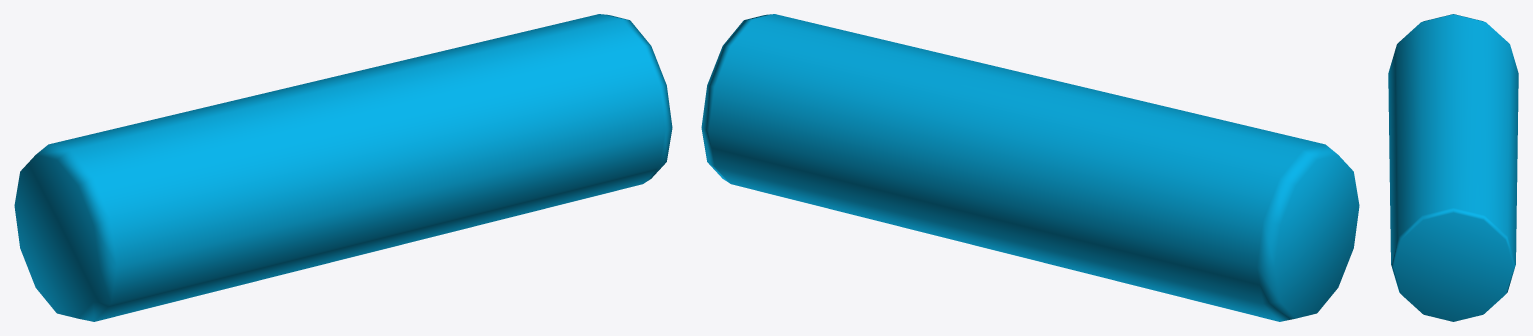
The model's file is Cut_Wood_02.fbx.
3 renders of one model, left to right at view 1: azimuth 30°, elevation 25°; view 2: azimuth 150°, elevation 25°; view 3: azimuth 270°, elevation 25°, orthographic. The views are drawn at different scales.
Parts seen in each view (by area): view 1: Cut_Wood_02; view 2: Cut_Wood_02; view 3: Cut_Wood_02.
Boxes of the visible parts, box(x1,y1,x2,y2) form: Cut_Wood_02: box(14, 14, 672, 321); Cut_Wood_02: box(701, 14, 1359, 321); Cut_Wood_02: box(1388, 14, 1518, 321).
Bounding box in the file's own units: 56.49 × 15.65 × 15.65.
